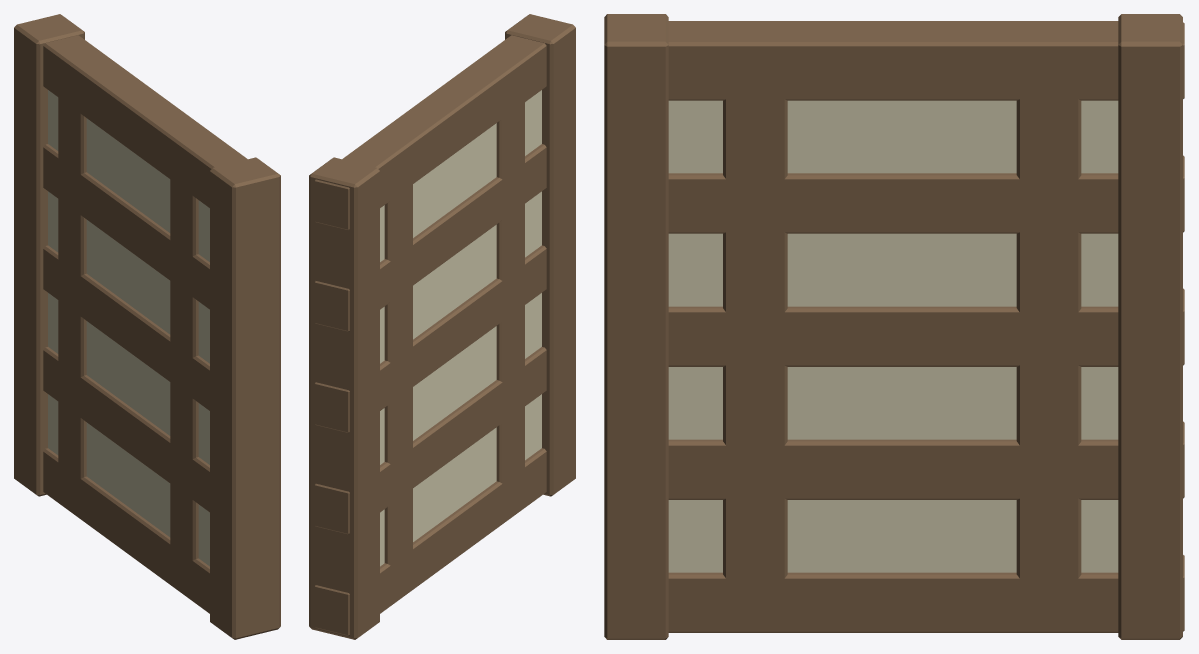
The model's file is Wall02.fbx.
3 views of the same model, side by side, from view 1: azimuth 30°, elevation 25°; view 2: azimuth 150°, elevation 25°; view 3: azimuth 270°, elevation 25° (orthographic). The views are drawn at different scales.
Visible parts, largest first — view 1: Plank.040, Wall_01.005, Plank.038, Plank.036, Plank.044, Plank.045, Plank.039, Plank.041, Plank.037, Plank.042; view 2: Plank.038, Wall_01.005, Plank.040, Plank.036, Plank.044, Plank.045, Plank.037, Plank.041, Plank.039, Plank.042; view 3: Wall_01.005, Plank.038, Plank.040, Plank.036, Plank.044, Plank.041, Plank.037, Plank.042, Plank.039, Plank.045.
Boxes of the visible parts, x1,y1,x2,y2 form: Plank.040: (210,157,280,639); Wall_01.005: (48,90,209,566); Plank.038: (14,14,84,496); Plank.036: (43,35,247,207); Plank.044: (170,169,198,570); Plank.045: (58,88,86,488); Plank.039: (43,245,209,410); Plank.041: (43,144,209,309); Plank.037: (43,448,209,613); Plank.042: (43,347,209,512); Plank.038: (309,157,379,639); Wall_01.005: (380,90,541,566); Plank.040: (505,14,575,496); Plank.036: (314,35,546,230); Plank.044: (496,98,524,493); Plank.045: (384,175,412,575); Plank.037: (314,448,546,635); Plank.041: (314,144,546,331); Plank.039: (314,245,546,432); Plank.042: (314,347,546,534); Wall_01.005: (668,100,1118,572); Plank.038: (1118,14,1182,639); Plank.040: (604,14,668,639); Plank.036: (668,21,1184,100); Plank.044: (723,85,787,592); Plank.041: (668,155,1184,233); Plank.037: (668,555,1184,632); Plank.042: (668,421,1184,499); Plank.039: (668,288,1184,366); Plank.045: (1016,85,1081,592).
Bounding box in the file's own units: 50.42 × 449 × 395.
